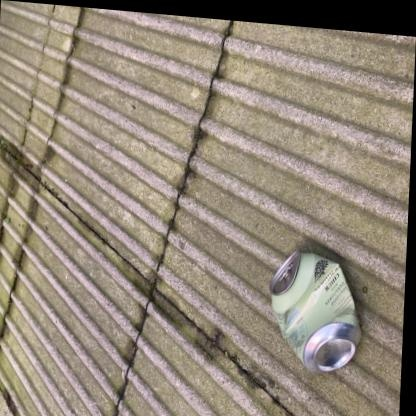trash: (271, 251, 359, 371)
